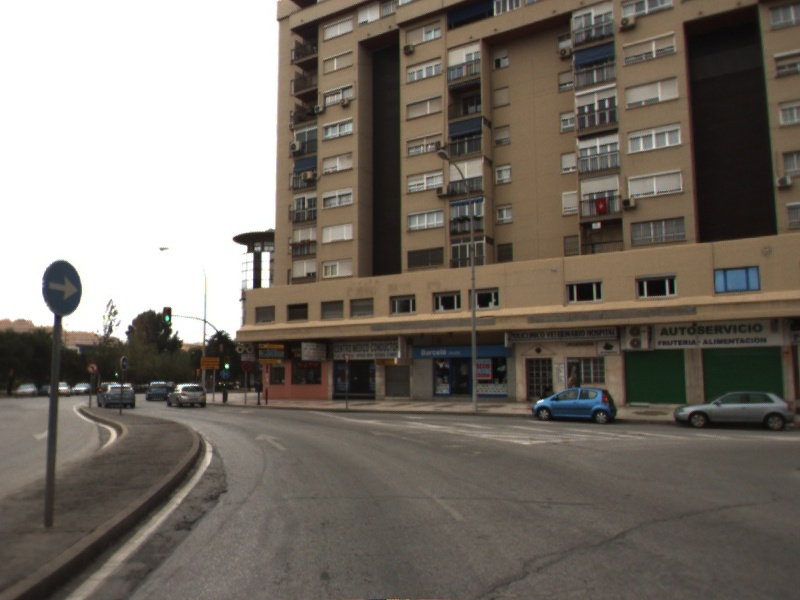STRAIGHT: (252, 431, 289, 453)
